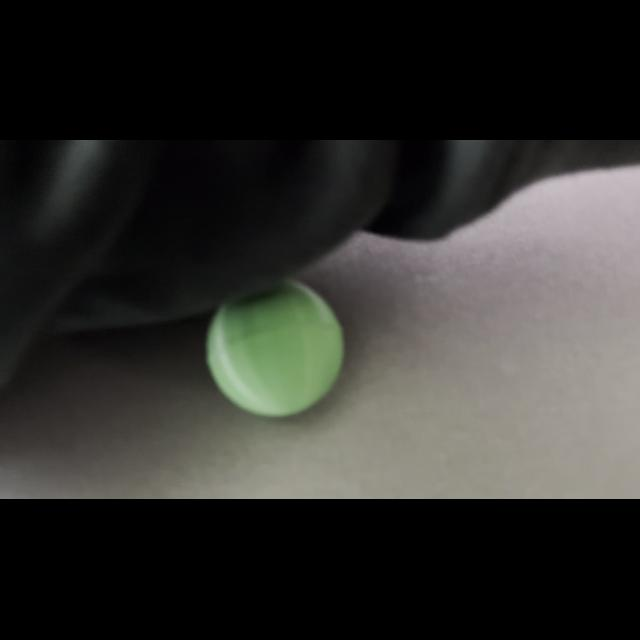objects: (196, 272, 354, 424)
